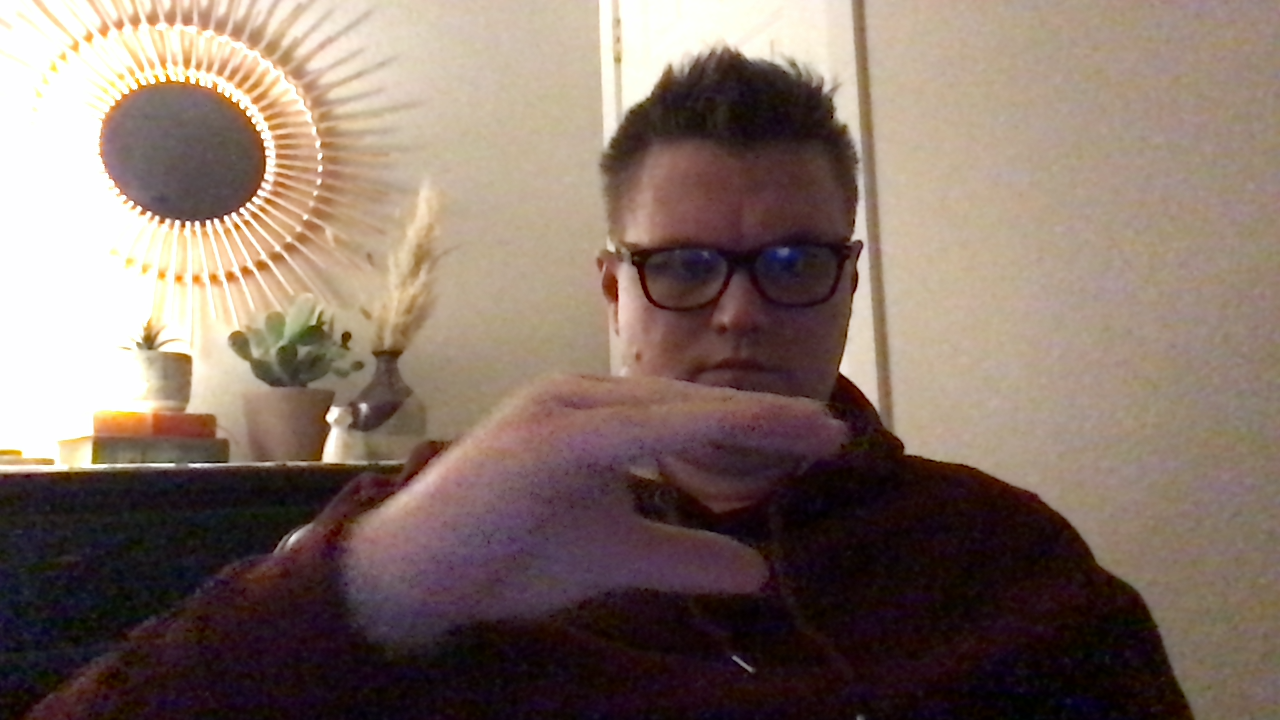no: (345, 364, 851, 627)
